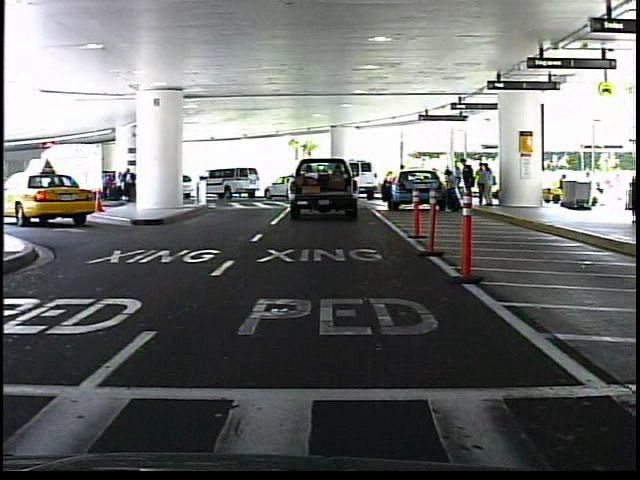person: (444, 167, 463, 217), (394, 160, 410, 201)
